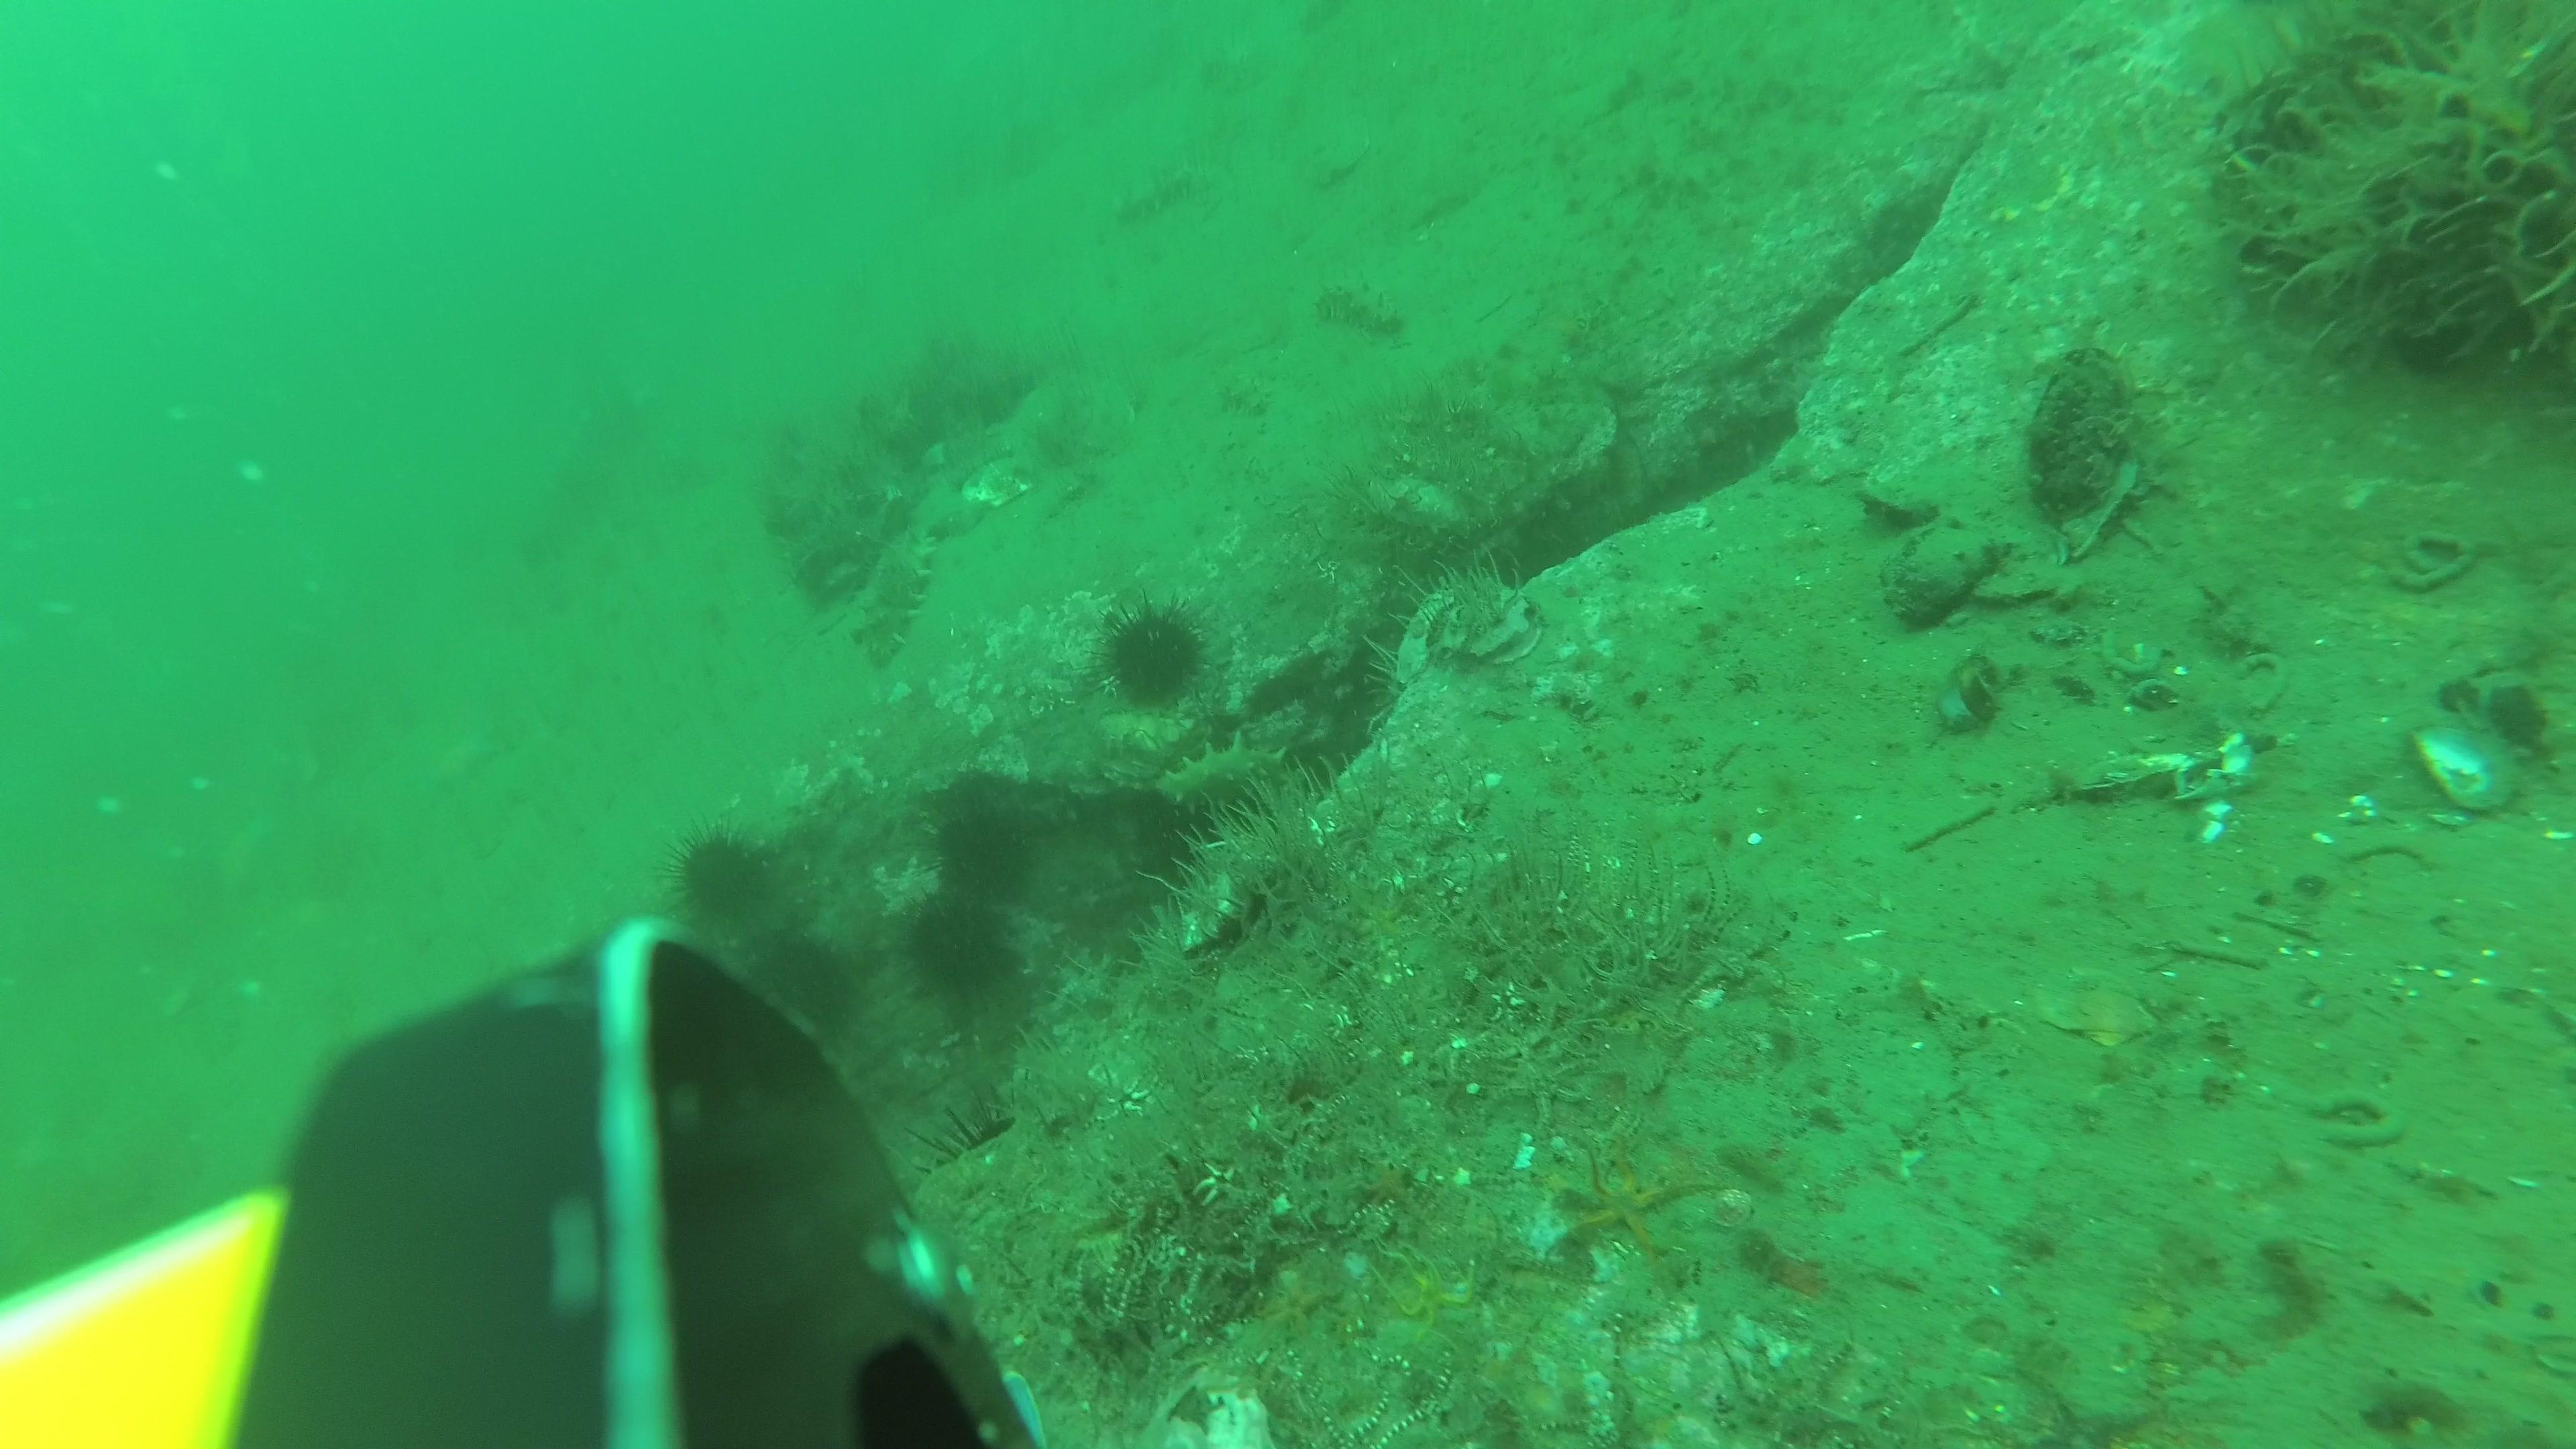echinus: (922, 1092, 1047, 1219), (902, 899, 1017, 1019), (1102, 602, 1212, 717), (936, 789, 1028, 908), (669, 824, 771, 929), (766, 938, 860, 1028)
holothurian: (1162, 738, 1307, 816), (862, 524, 932, 676), (1322, 272, 1401, 341), (1115, 163, 1200, 221), (1215, 375, 1272, 423)
scallop: (2035, 962, 2158, 1049), (964, 453, 1042, 511), (1315, 122, 1376, 189)
starfish: (1571, 1143, 1716, 1253), (1378, 1240, 1479, 1341), (1261, 1276, 1339, 1334)
